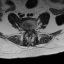CCS_severe_stenosis: (28, 28, 30, 36)
LFS_stenosis: (32, 27, 34, 32)
LLS_normal: (30, 28, 32, 34)
RFS_severe_stenosis: (25, 28, 27, 33)
RLS_stenosis: (27, 28, 28, 33)
